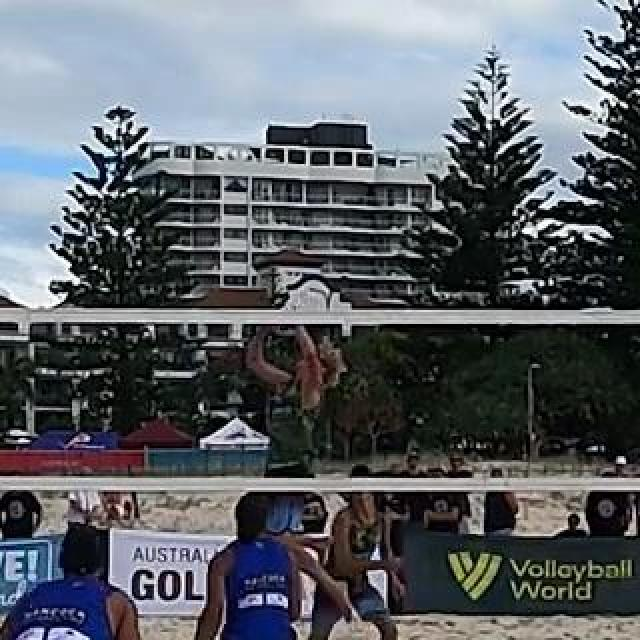volleyball: (266, 300, 302, 338)
